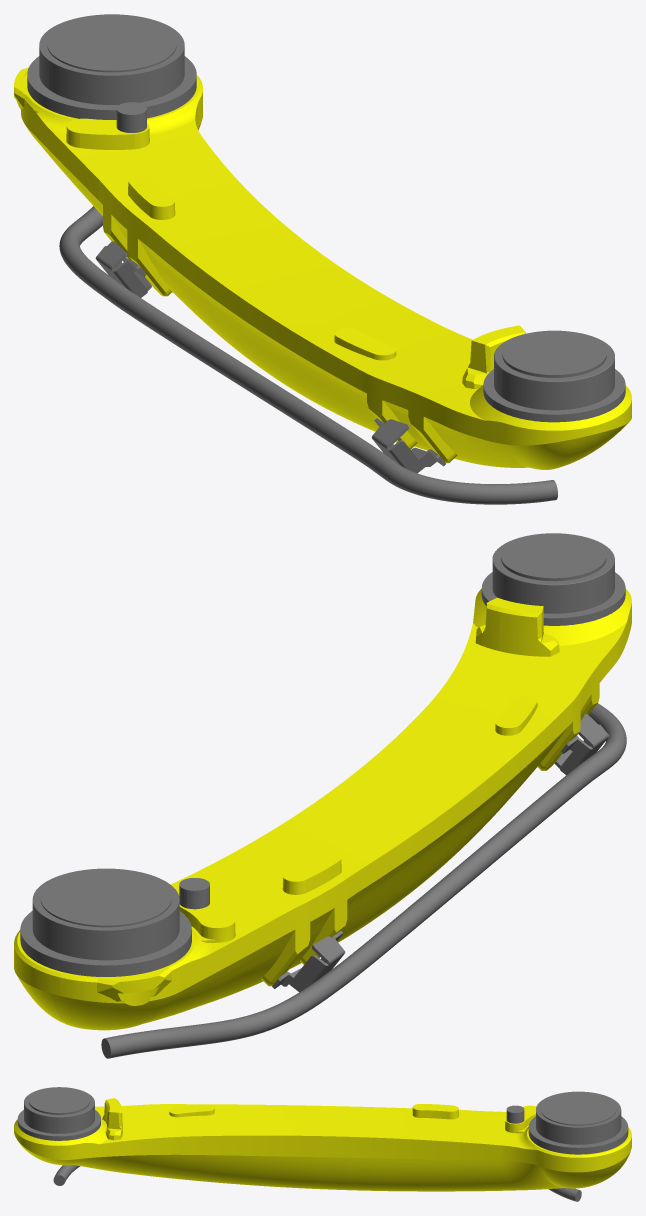
3 renders of one model, top to bottom at view 1: azimuth 30°, elevation 25°; view 2: azimuth 150°, elevation 25°; view 3: azimuth 270°, elevation 25°, orthographic. The views are drawn at different scales.
Visible parts, largest first — view 1: Mesh_0-mesh, Mesh_0-mesh_1; view 2: Mesh_0-mesh, Mesh_0-mesh_1; view 3: Mesh_0-mesh, Mesh_0-mesh_1.
Part boxes in pixels (bbox=[...]): Mesh_0-mesh: bbox=[14, 67, 631, 469]; Mesh_0-mesh_1: bbox=[27, 14, 625, 504]; Mesh_0-mesh: bbox=[14, 589, 631, 1030]; Mesh_0-mesh_1: bbox=[20, 533, 626, 1058]; Mesh_0-mesh: bbox=[14, 1098, 631, 1191]; Mesh_0-mesh_1: bbox=[17, 1087, 628, 1201].
Bounding box in the file's own units: 0.2193 × 0.181 × 1.
